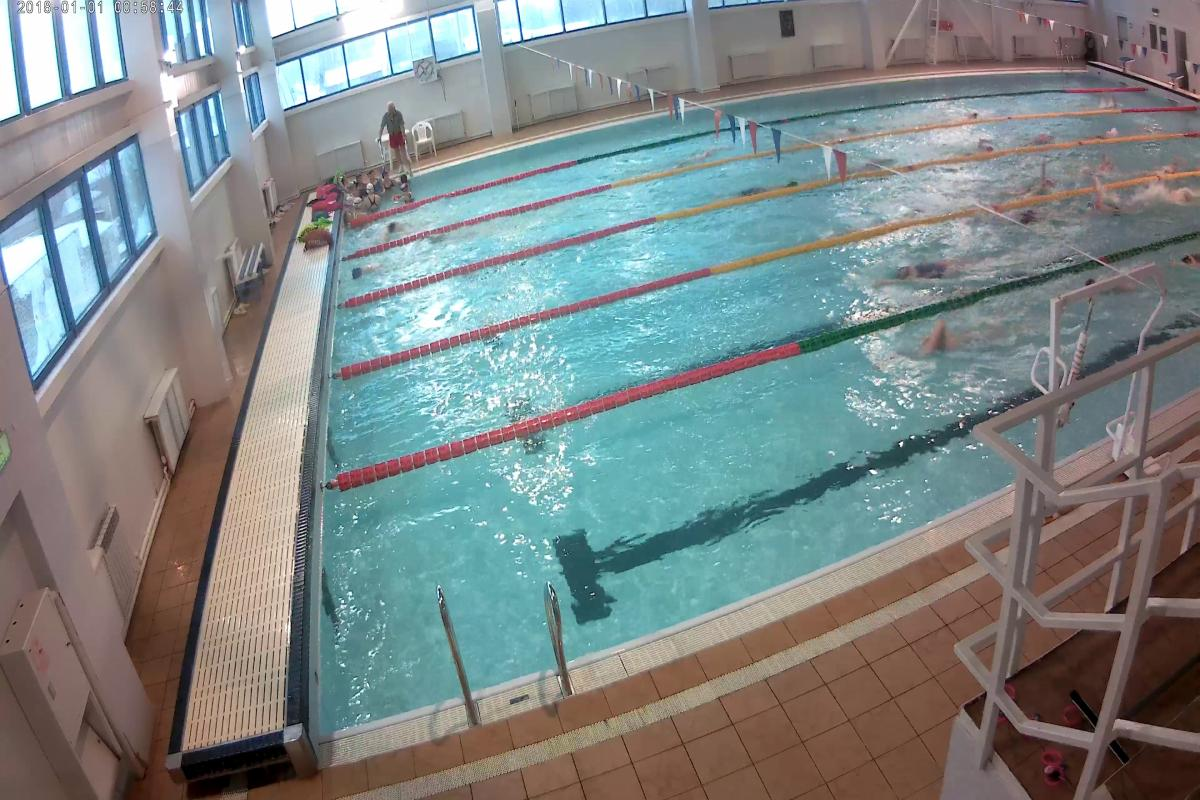swimmer: (920, 320, 995, 364), (884, 252, 974, 278), (1023, 203, 1076, 228), (1169, 247, 1200, 271), (1073, 274, 1097, 279)
